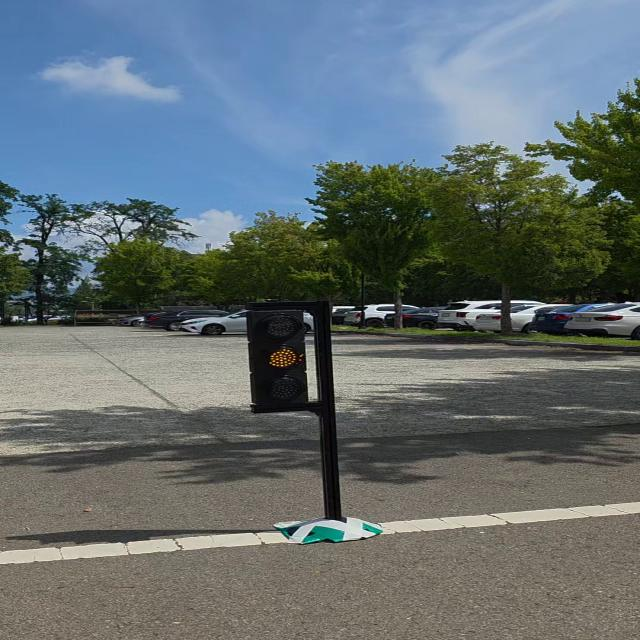yellow: (244, 301, 318, 410)
